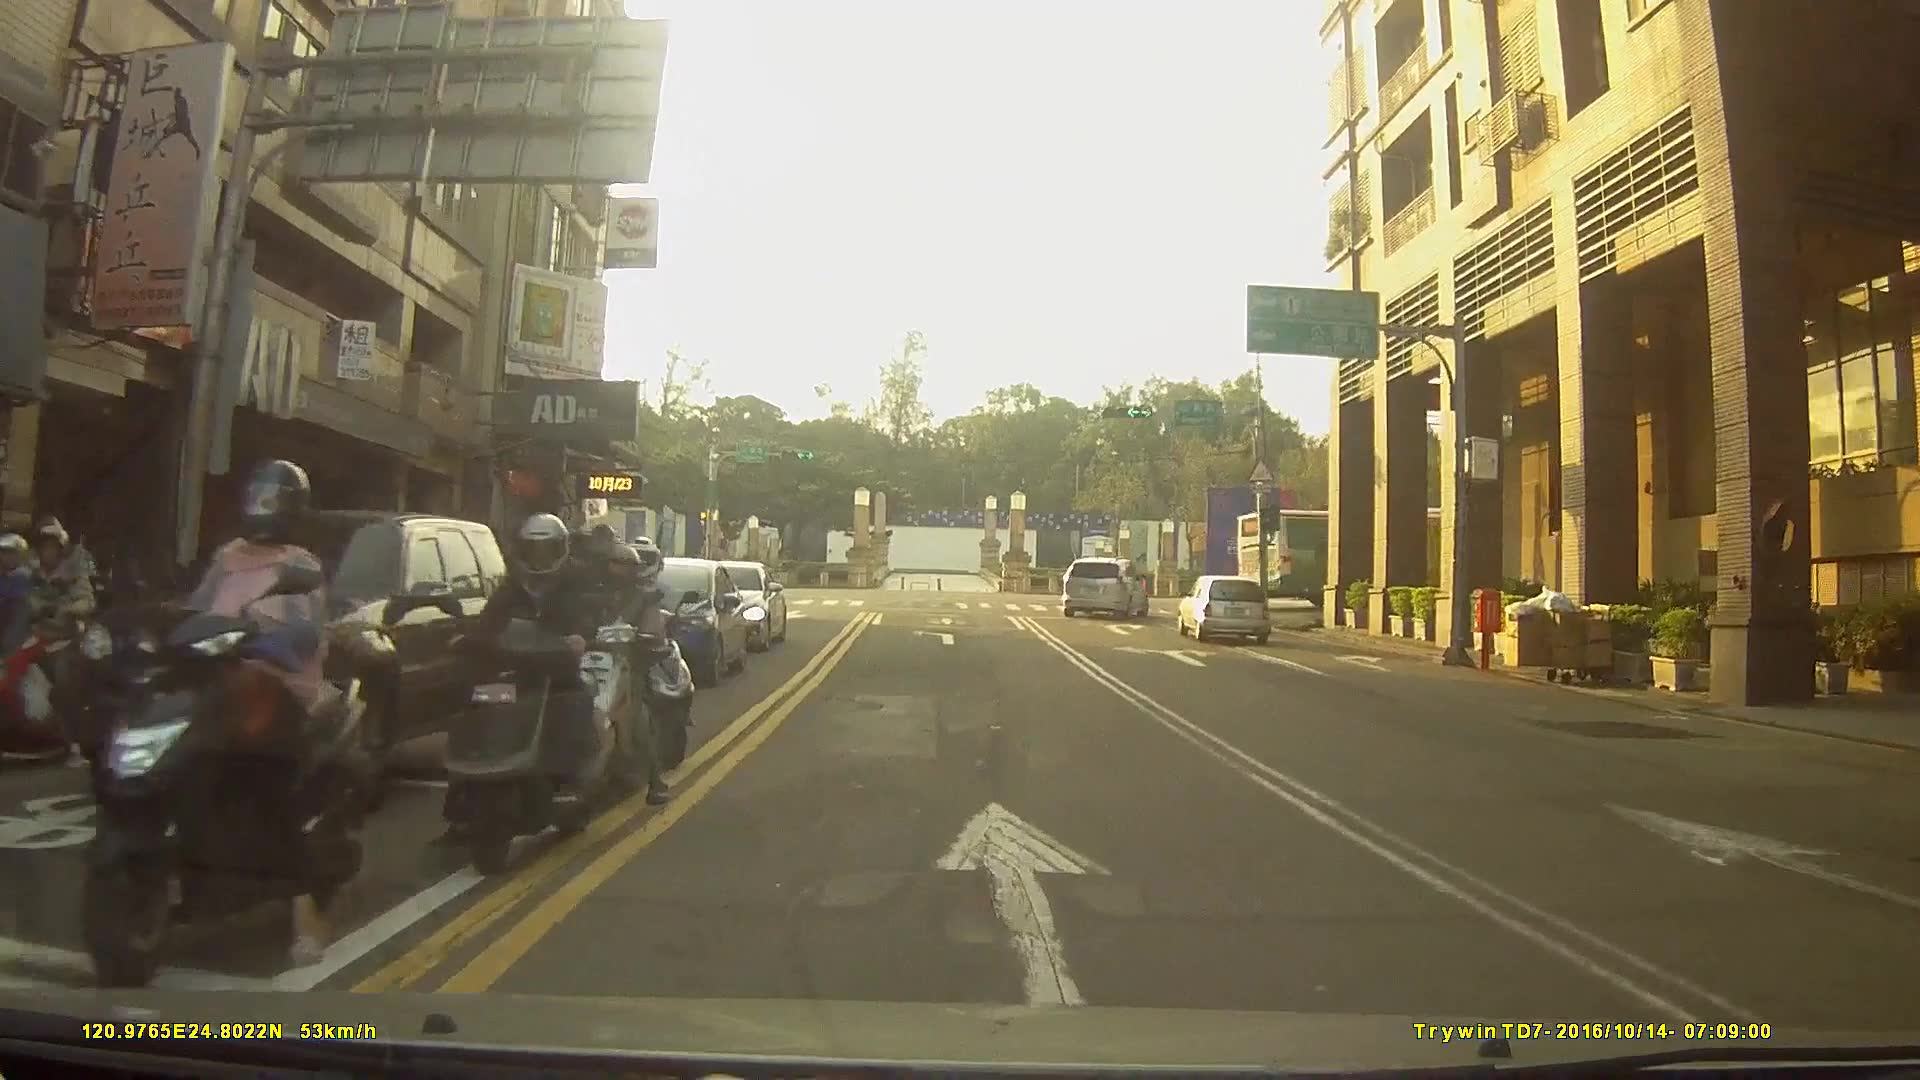rider: (60, 456, 359, 979), (435, 518, 616, 886), (1, 514, 128, 772)
vehicle: (73, 509, 513, 812), (1236, 507, 1502, 603), (1174, 570, 1272, 643), (1061, 554, 1146, 618)
